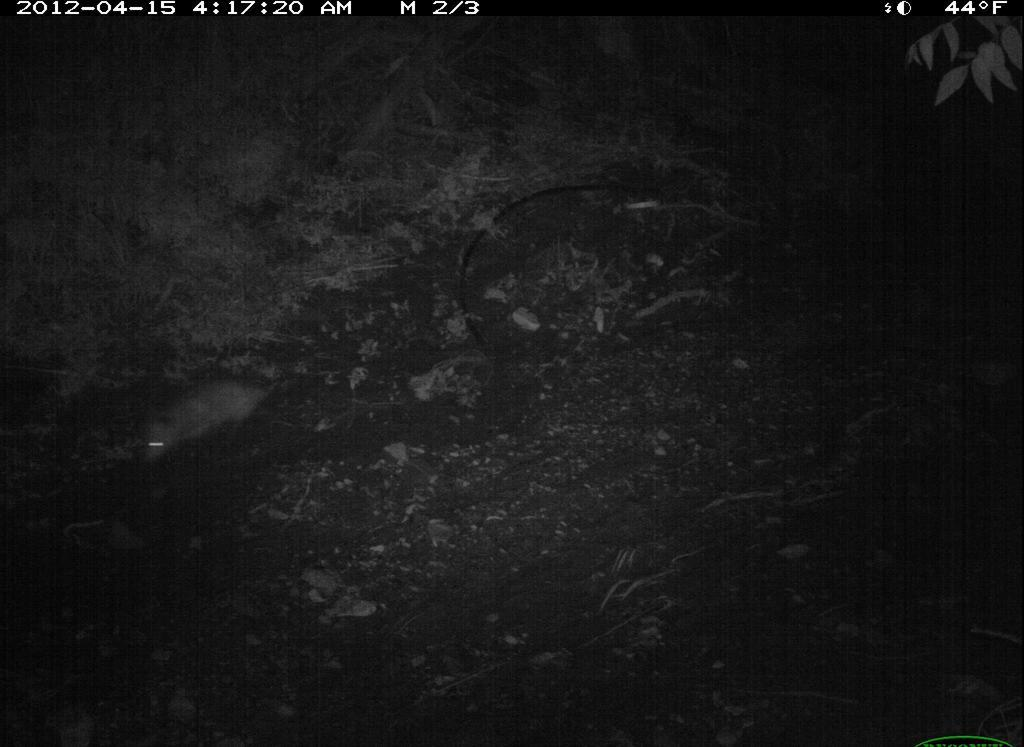opossum: (139, 365, 327, 463)
